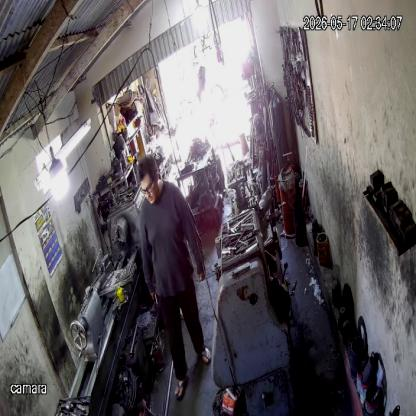lentes: (140, 178, 154, 195)
